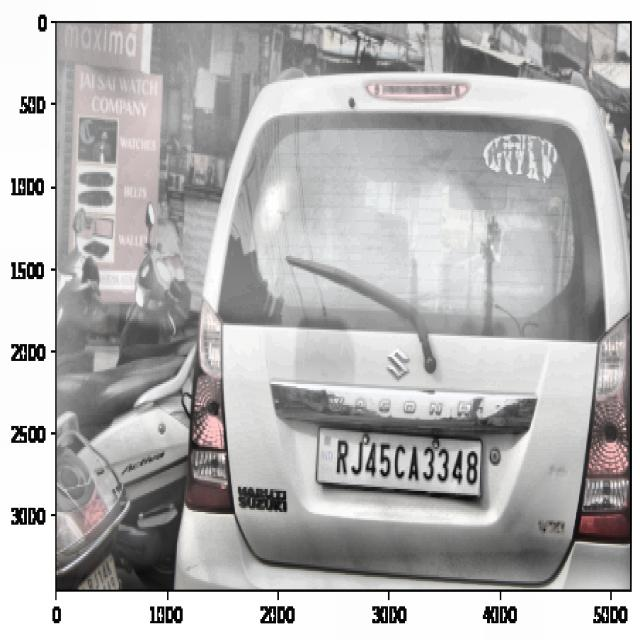license_plate: (332, 432, 482, 493)
